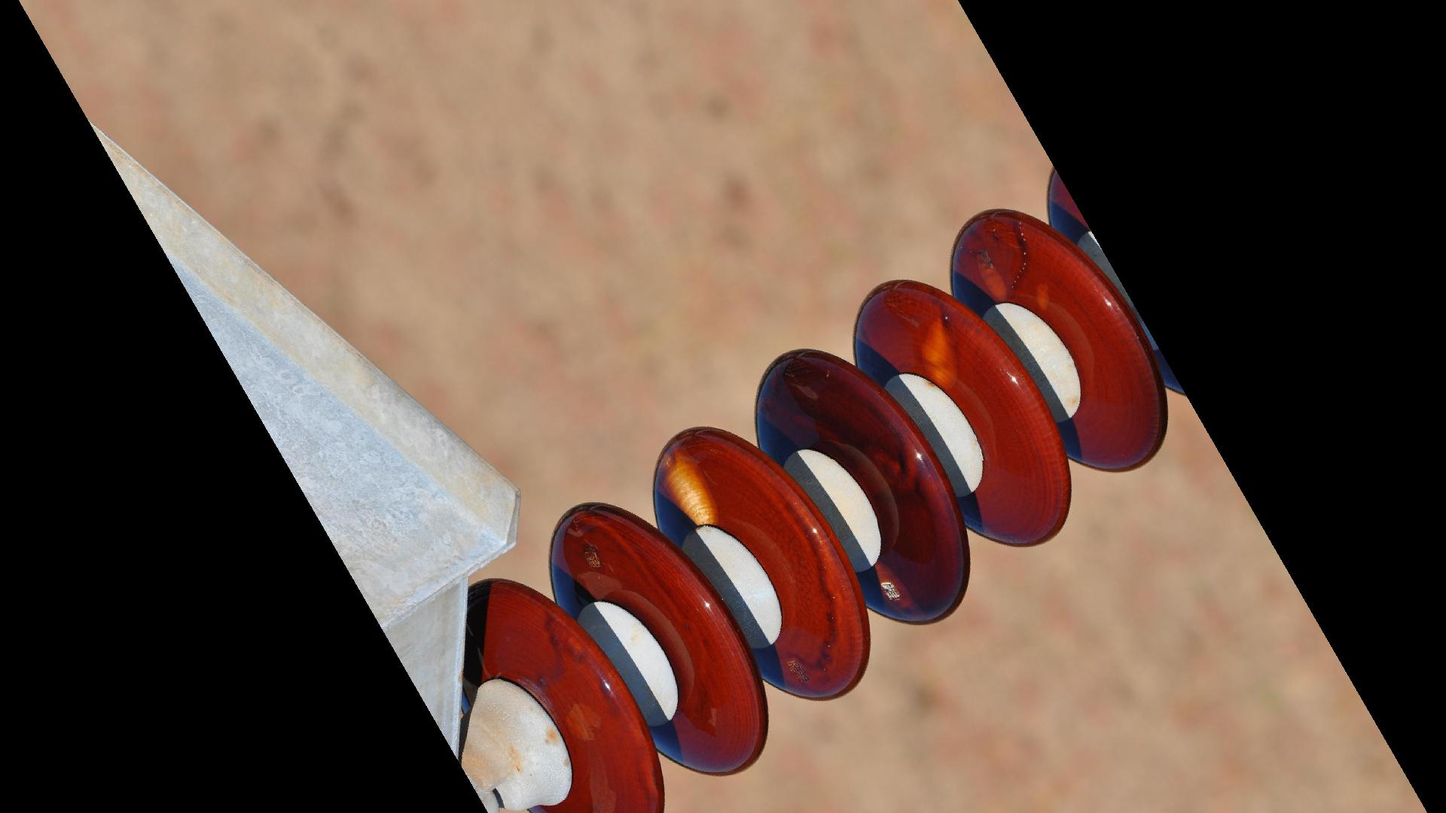insulator: (455, 156, 1177, 813)
insulator_flashover: (652, 443, 721, 531), (917, 315, 958, 392)
